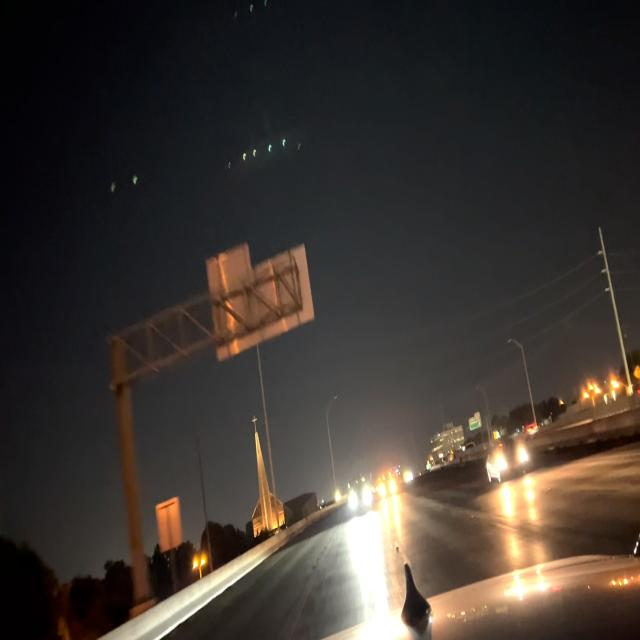back-of-sign: (204, 246, 316, 361), (154, 495, 183, 551)
